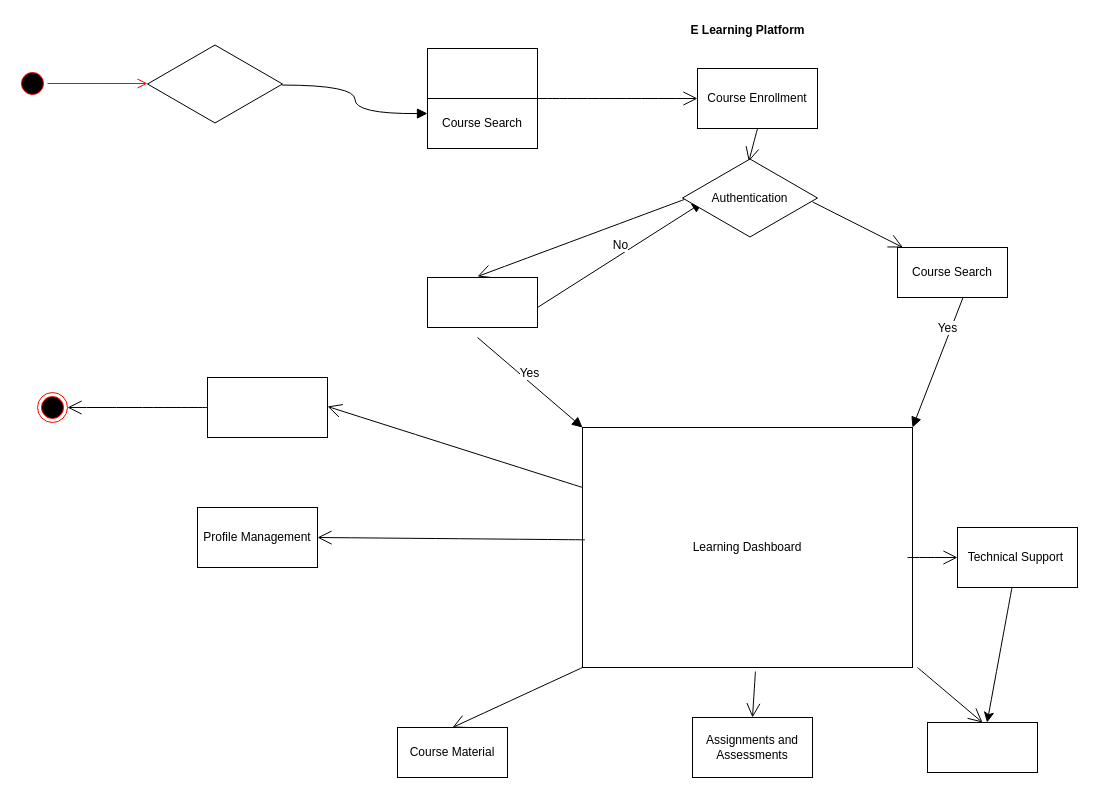
The diagram is 1095 pixels wide and 795 high, and some of its shapes have lost their labels. The shapes that lost their labels are listed below. From the top down, each one's box as (x1, y1, x2, y2) in pixels, then its label:
(146, 42, 282, 124): Course Discovery
(426, 48, 538, 98): Course Catalog
(426, 276, 538, 328): Login
(206, 376, 328, 438): Logout
(926, 722, 1038, 772): Communication tools
